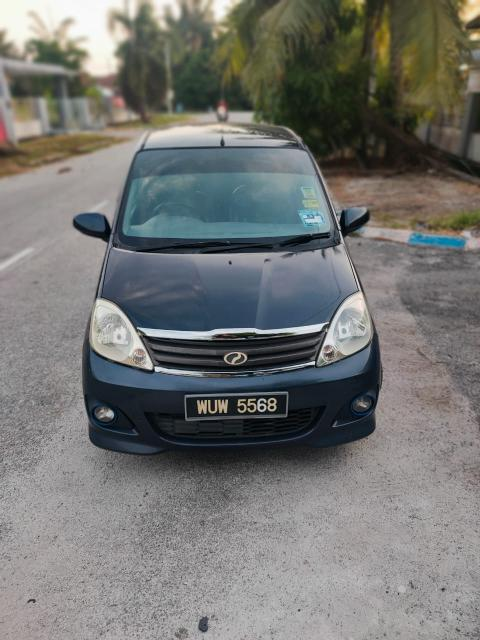License_Plate: (184, 396, 290, 419)
car: (61, 111, 389, 456)
